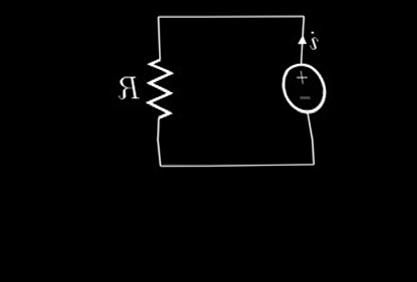Battery: (268, 55, 338, 121)
